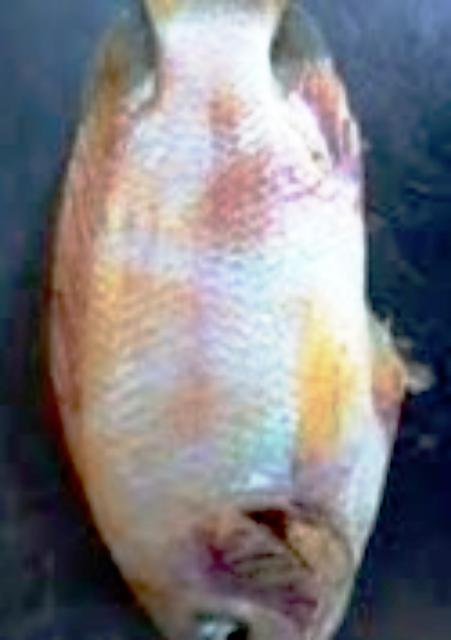Tilapia Lake Virus -TiLV-: (51, 0, 427, 636), (52, 0, 405, 640)
